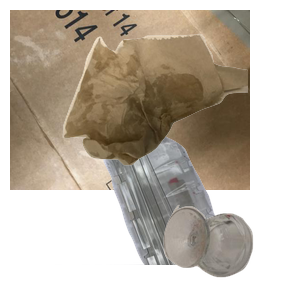cardboard: (10, 10, 250, 190)
glass: (161, 202, 300, 300)
plastic: (55, 120, 284, 300)
trash: (60, 31, 300, 189)
